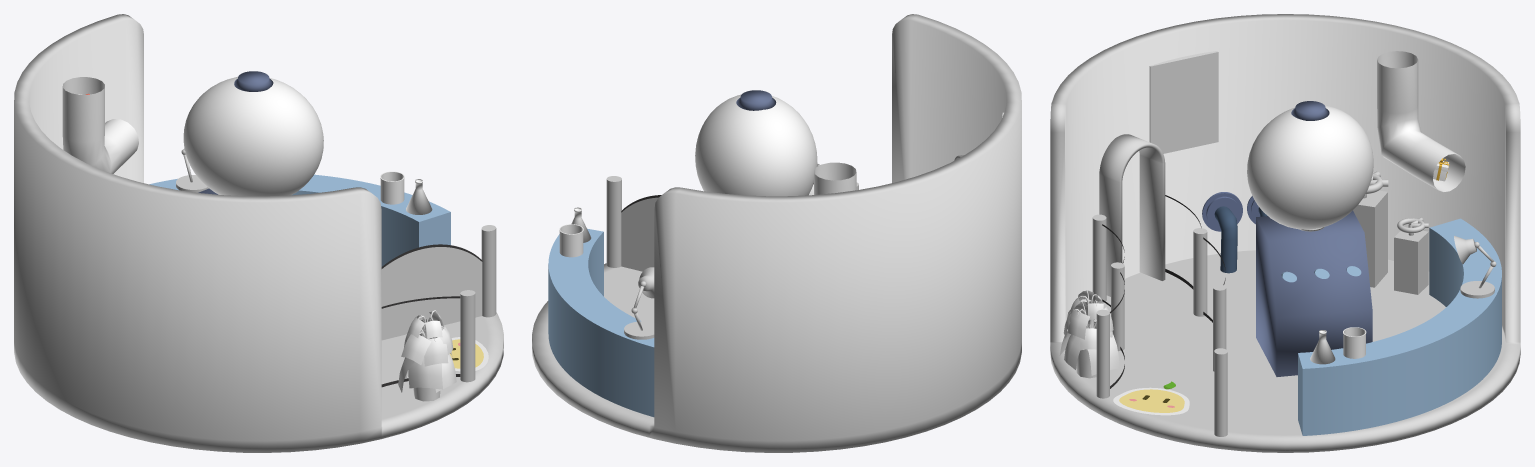
The model's file is product_interior.glb.
3 views of the same model, side by side, from view 1: azimuth 30°, elevation 25°; view 2: azimuth 150°, elevation 25°; view 3: azimuth 270°, elevation 25° (orthographic). The views are drawn at different scales.
Parts seen in each view (by area): view 1: 研发组小屋-墙, Icosphere, Circle.004, Cylinder.012, Circle.005, 盆栽, Cylinder.004, Cylinder.008, Circle.013, Cylinder, Plane.002, Circle.012; view 2: 研发组小屋-墙, Circle.005, Icosphere, Circle.004, Cylinder.008, Cylinder.012, Circle.013, Cylinder, Cylinder.020; view 3: 研发组小屋-墙, Circle.005, 抓球机, Icosphere, Circle.006, Cylinder.012, Cube.005, 盆栽, Cube, Cube.001, Plane.002, Cylinder.005 (+11 smaller).
Boxes of the visible parts, x1,y1,x2,y2 form: 研发组小屋-墙: (14,14,503,452); Icosphere: (183,76,323,196); Circle.004: (381,244,482,340); Cylinder.012: (62,77,138,173); Circle.005: (149,174,450,266); 盆栽: (398,310,456,401); Cylinder.004: (460,290,475,382); Cylinder.008: (481,225,496,317); Circle.013: (380,171,404,204); Cylinder: (234,71,273,91); Plane.002: (450,337,488,371); Circle.012: (406,179,432,214); 研发组小屋-墙: (532,14,1021,452); Circle.005: (548,228,654,417); Icosphere: (695,94,817,196); Circle.004: (621,195,661,271); Cylinder.008: (606,176,621,267); Cylinder.012: (814,162,856,194); Circle.013: (559,224,583,257); Cylinder: (736,90,776,110); Cylinder.020: (624,321,654,339); 研发组小屋-墙: (1050,14,1520,452); Circle.005: (1298,218,1501,435); 抓球机: (1256,210,1372,376); Icosphere: (1247,105,1373,229); Circle.006: (1099,134,1165,296); Cylinder.012: (1377,51,1465,191); Cube.005: (1149,51,1218,153); 盆栽: (1059,290,1119,378); Cube: (1353,190,1387,287); Cube.001: (1394,230,1428,294); Plane.002: (1113,381,1189,415); Cylinder.005: (1193,228,1207,316).
Size of the model in its own units: 4 by 2.34 by 4.
